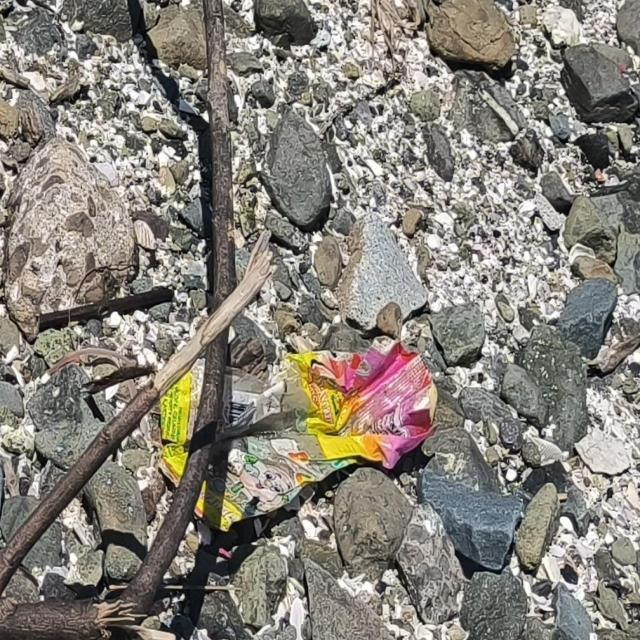plastic_waste: (158, 336, 439, 534)
